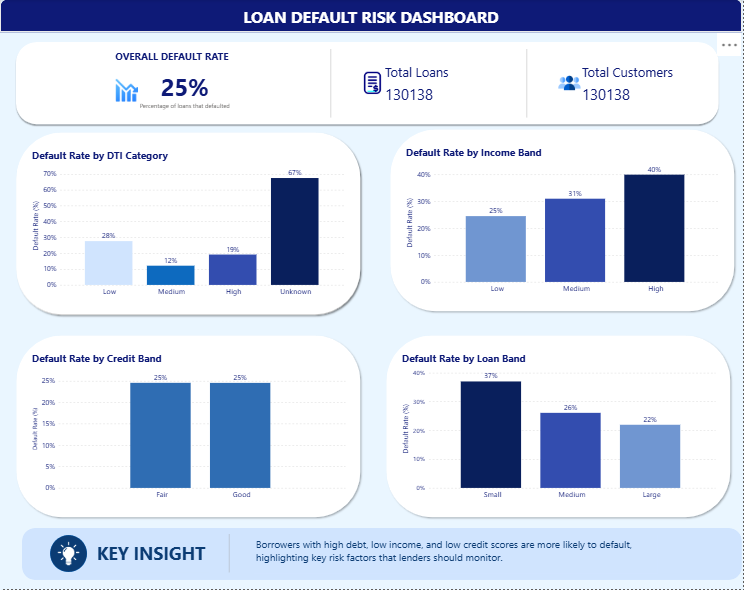

The dashboard page shown, as its layout file describes it:
{"tool":"powerbi","page":{"name":"Page 1","canvas":[2000,1590],"ordinal":0},"visuals":[{"type":"shape","box":[0,0,2000,90],"z":0},{"type":"shape","box":[35,107.5,1910,237.5],"z":0,"group":"g1"},{"type":"shape","box":[1043,342.3,945,508.3],"z":0,"group":"g3"},{"type":"shape","box":[35,351.7,945,508.3],"z":0,"group":"g4"},{"type":"shape","box":[35,352.5,945,508.3],"z":0,"group":"g5"},{"type":"shape","box":[1032,897.5,945,508.3],"z":0,"group":"g6"},{"type":"shape","box":[35,898.3,945,508.3],"z":0,"group":"g7"},{"type":"shape","box":[136,1444,100,100],"z":0,"group":"g13"},{"type":"group","id":"g1","title":"Group 1","box":[35,107.5,1910,237.5],"z":1000},{"type":"shape","box":[1412.7,133.7,15,185],"z":1000,"group":"g1"},{"type":"image","box":[148.3,1456.7,73.3,73.3],"z":1000,"group":"g13"},{"type":"cardVisual","fields":{"Data":["Table1_1.Total Customers"]},"box":[1487.5,138.7,395,175],"z":2000,"group":"g1"},{"type":"group","id":"g2","title":"Group 2","box":[35,352.5,945,507.5],"z":2000},{"type":"group","id":"g3","title":"Group 3","box":[1043,342.3,946,508],"z":2001,"group":"g8"},{"type":"group","id":"g4","title":"Group 3","box":[35,351.7,945,508.3],"z":2001,"group":"g11"},{"type":"group","id":"g5","title":"Group 3","box":[35,352.5,945,508.3],"z":2001,"group":"g2"},{"type":"group","id":"g6","title":"Group 3","box":[1032,897.5,945,508.3],"z":2001,"group":"g10"},{"type":"group","id":"g7","title":"Group 3","box":[35,898.3,945,508.3],"z":2001,"group":"g9"},{"type":"cardVisual","title":"OVERALL DEFAULT RATE","fields":{"Data":["Table1_1.Default Rate"]},"box":[101.7,133.7,721.7,185],"z":3000,"group":"g1"},{"type":"group","id":"g8","title":"Group 2","box":[1043,342.3,946,508],"z":3000},{"type":"clusteredColumnChart","fields":{"Y":["Table1_1.Percentage of loans that defaulted"],"Category":["Table1_1.Income Band"]},"box":[1088,392.9,855,410],"z":3000,"group":"g3"},{"type":"clusteredColumnChart","fields":{"Category":["Table1_1.DTI Category"],"Y":["Table1_1.Percentage of loans that defaulted"]},"box":[80,402.3,855,410],"z":3000,"group":"g4"},{"type":"clusteredColumnChart","fields":{"Category":["Table1_1.DTI Category"],"Y":["Table1_1.Percentage of loans that defaulted"]},"box":[80,403.1,855,410],"z":3000,"group":"g5"},{"type":"clusteredColumnChart","fields":{"Y":["Table1_1.Percentage of loans that defaulted"],"Category":["Table1_1.Loan Band"]},"box":[1077,948.1,855,410],"z":3000,"group":"g6"},{"type":"clusteredColumnChart","fields":{"Y":["Table1_1.Percentage of loans that defaulted"],"Category":["Table1_1.Credit Band"]},"box":[80,948.9,855,410],"z":3000,"group":"g7"},{"type":"cardVisual","fields":{"Data":["Table1_1.Total Loans"]},"box":[957.9,138.7,395,175],"z":4000,"group":"g1"},{"type":"group","id":"g9","title":"Group 2","box":[35,898.3,945,507.5],"z":4000},{"type":"shape","box":[883.1,133.7,15,185],"z":5000,"group":"g1"},{"type":"group","id":"g10","title":"Group 2","box":[1032,897.5,945,508.3],"z":5000},{"type":"group","id":"g11","title":"Group 2","box":[35,351.7,945,508.3],"z":6000},{"type":"shape","box":[60,1425,1940,140],"z":7000},{"type":"textbox","box":[250,1454,313.3,90],"z":8000},{"type":"shape","box":[613,1443,12,104],"z":9000},{"type":"textbox","box":[684,1444,1088,104],"z":10000},{"type":"group","id":"g12","title":"Group 4","box":[136,1444,100,100],"z":12003},{"type":"group","id":"g13","title":"Group 5","box":[136,1444,100,100],"z":12004,"group":"g12"}]}

Visuals, with their boxes in screenshot pixels (x1, y1, x2, y2), scaled from the page's 2000x1590 canvas onto the 744x590 screenshot:
shape: bbox(0, 0, 743, 33)
shape: bbox(13, 40, 724, 128)
shape: bbox(388, 127, 740, 316)
shape: bbox(13, 131, 365, 319)
shape: bbox(13, 131, 365, 319)
shape: bbox(384, 333, 735, 522)
shape: bbox(13, 333, 365, 522)
shape: bbox(51, 536, 88, 573)
"Group 1" group: bbox(13, 40, 724, 128)
shape: bbox(526, 50, 531, 118)
image: bbox(55, 541, 82, 568)
cardVisual - Table1_1.Total Customers: bbox(553, 51, 700, 116)
"Group 2" group: bbox(13, 131, 365, 319)
"Group 3" group: bbox(388, 127, 740, 316)
"Group 3" group: bbox(13, 131, 365, 319)
"Group 3" group: bbox(13, 131, 365, 319)
"Group 3" group: bbox(384, 333, 735, 522)
"Group 3" group: bbox(13, 333, 365, 522)
"OVERALL DEFAULT RATE" cardVisual: bbox(38, 50, 306, 118)
"Group 2" group: bbox(388, 127, 740, 316)
clusteredColumnChart - Table1_1.Percentage of loans that defaulted x Table1_1.Income Band: bbox(405, 146, 723, 298)
clusteredColumnChart - Table1_1.DTI Category x Table1_1.Percentage of loans that defaulted: bbox(30, 149, 348, 301)
clusteredColumnChart - Table1_1.DTI Category x Table1_1.Percentage of loans that defaulted: bbox(30, 150, 348, 302)
clusteredColumnChart - Table1_1.Percentage of loans that defaulted x Table1_1.Loan Band: bbox(401, 352, 719, 504)
clusteredColumnChart - Table1_1.Percentage of loans that defaulted x Table1_1.Credit Band: bbox(30, 352, 348, 504)
cardVisual - Table1_1.Total Loans: bbox(356, 51, 503, 116)
"Group 2" group: bbox(13, 333, 365, 522)
shape: bbox(329, 50, 334, 118)
"Group 2" group: bbox(384, 333, 735, 522)
"Group 2" group: bbox(13, 131, 365, 319)
shape: bbox(22, 529, 743, 581)
textbox: bbox(93, 540, 210, 573)
shape: bbox(228, 535, 232, 574)
textbox: bbox(254, 536, 659, 574)
"Group 4" group: bbox(51, 536, 88, 573)
"Group 5" group: bbox(51, 536, 88, 573)
